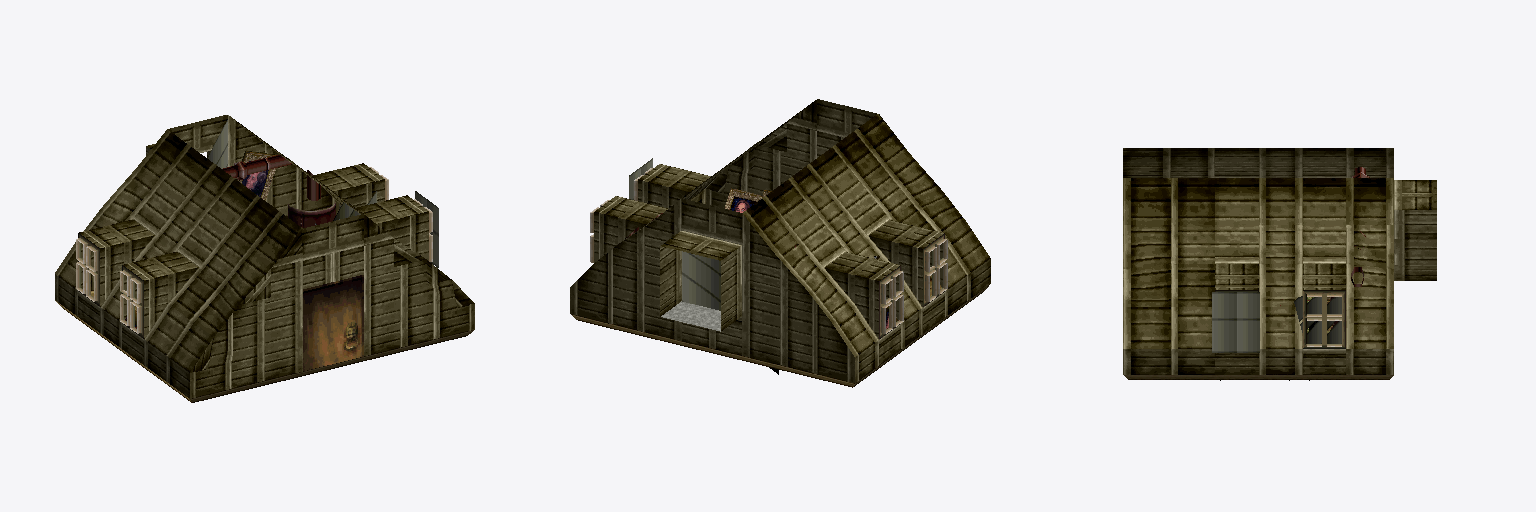
The picture shows the model from 3 angles: view 1: azimuth 30°, elevation 25°; view 2: azimuth 150°, elevation 25°; view 3: azimuth 270°, elevation 25°; orthographic projection.
Visible parts, largest first — view 1: T1L2M003_34, T1L2M003_33, T1L2M003_36, T1L2M003_25, T1L2M003_26, T1L2M003_10, T1L2M003_13, T1L2M003_4, T1L2M003_31, T1L2M003_39, T1L2M003_16, T1L2M003_27 (+8 smaller); view 2: T1L2M003_4, T1L2M003_2, T1L2M003_7, T1L2M003_10, T1L2M003_8, T1L2M003_0, T1L2M003_13, T1L2M003_36, T1L2M003_25, T1L2M003_26, T1L2M003_34, T1L2M003_16 (+6 smaller); view 3: T1L2M003_31, T1L2M003_23, T1L2M003_28, T1L2M003_20, T1L2M003_39, T1L2M003_8, T1L2M003_4, T1L2M003_36, T1L2M003_7, T1L2M003_16, T1L2M003_27, T1L2M003_26 (+3 smaller).
Part boxes in pixels (bbox=[...]): T1L2M003_34: bbox=[247, 211, 363, 381]; T1L2M003_33: bbox=[190, 252, 276, 398]; T1L2M003_36: bbox=[342, 198, 426, 361]; T1L2M003_25: bbox=[120, 259, 189, 386]; T1L2M003_26: bbox=[147, 219, 246, 318]; T1L2M003_10: bbox=[76, 227, 136, 353]; T1L2M003_13: bbox=[103, 187, 202, 312]; T1L2M003_4: bbox=[135, 115, 227, 186]; T1L2M003_31: bbox=[356, 191, 438, 267]; T1L2M003_39: bbox=[416, 260, 474, 348]; T1L2M003_16: bbox=[160, 147, 234, 218]; T1L2M003_27: bbox=[204, 179, 278, 250]; T1L2M003_4: bbox=[660, 196, 797, 374]; T1L2M003_2: bbox=[768, 236, 854, 382]; T1L2M003_7: bbox=[613, 184, 700, 345]; T1L2M003_10: bbox=[855, 244, 922, 370]; T1L2M003_8: bbox=[570, 212, 645, 328]; T1L2M003_0: bbox=[831, 276, 878, 387]; T1L2M003_13: bbox=[798, 204, 898, 274]; T1L2M003_36: bbox=[753, 100, 816, 195]; T1L2M003_25: bbox=[899, 228, 966, 338]; T1L2M003_26: bbox=[842, 172, 934, 242]; T1L2M003_34: bbox=[817, 99, 909, 170]; T1L2M003_16: bbox=[766, 164, 841, 234]; T1L2M003_31: bbox=[1171, 264, 1259, 379]; T1L2M003_23: bbox=[1259, 264, 1345, 379]; T1L2M003_28: bbox=[1171, 178, 1258, 380]; T1L2M003_20: bbox=[1259, 178, 1345, 380]; T1L2M003_39: bbox=[1123, 264, 1170, 379]; T1L2M003_8: bbox=[1346, 264, 1393, 379]; T1L2M003_4: bbox=[1346, 148, 1436, 280]; T1L2M003_36: bbox=[1123, 178, 1170, 268]; T1L2M003_7: bbox=[1346, 178, 1393, 268]; T1L2M003_16: bbox=[1259, 148, 1345, 329]; T1L2M003_27: bbox=[1171, 148, 1258, 164]; T1L2M003_26: bbox=[1171, 165, 1258, 177].
Size of the model in its own units: 15.69 by 9.31 by 14.31.
Materials: 1 (1 with a texture image).